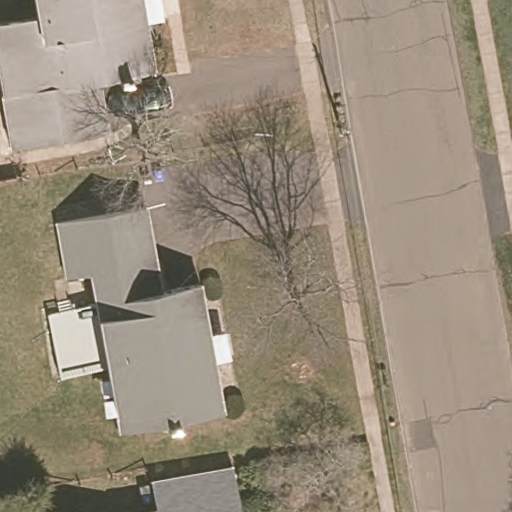DT: (332, 92, 351, 139)
